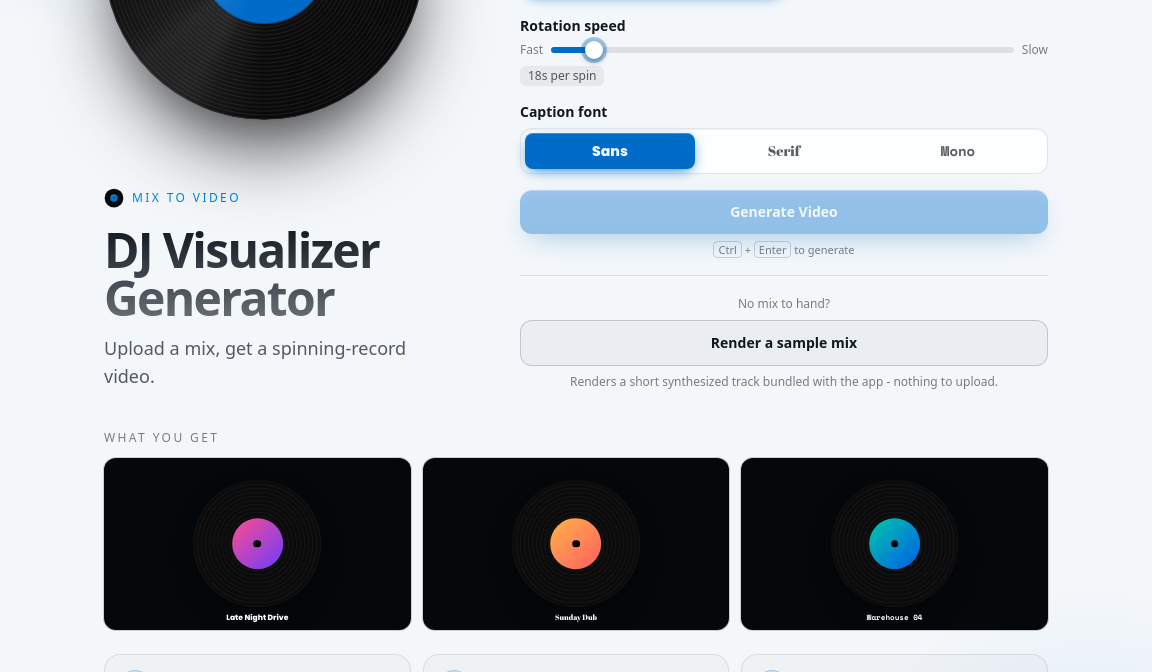
Scenario: sample mix › surfaces a server that has the sample switched off
(page scrolled)
What coordinates should you click on to do the following:
click the button "Render a sample mix"
I would click on:
 (784, 342)
Its box is [520,320,1048,366].
(page scrolled)
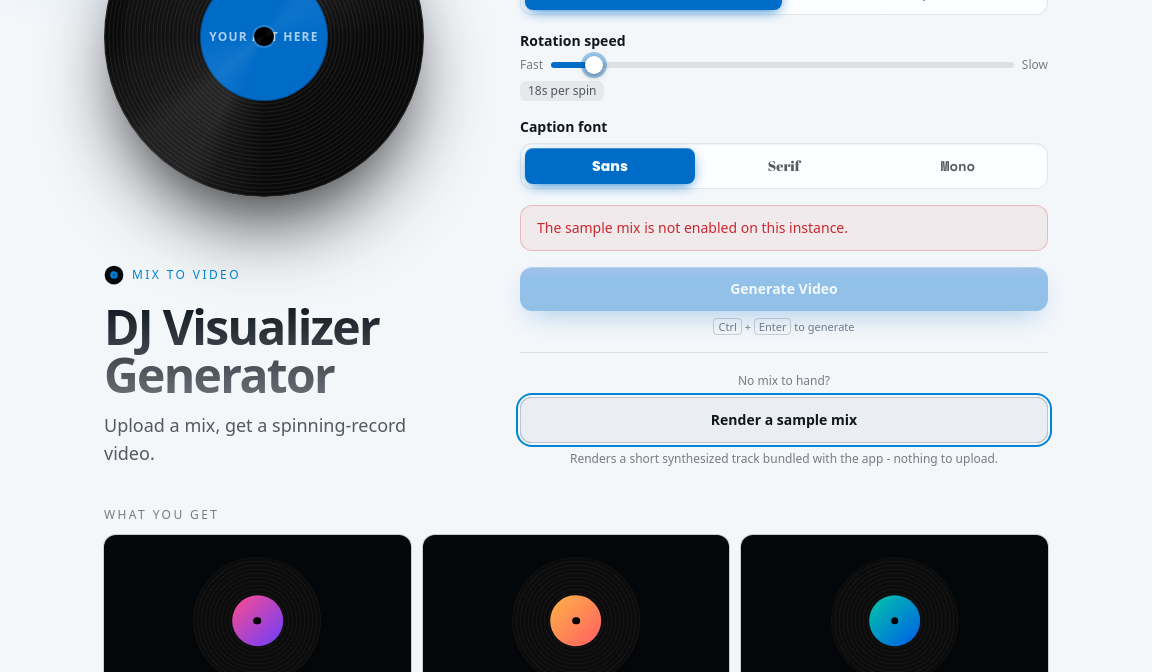
Result: the message shows "not enabled on this instance" at [537,218,848,237]
